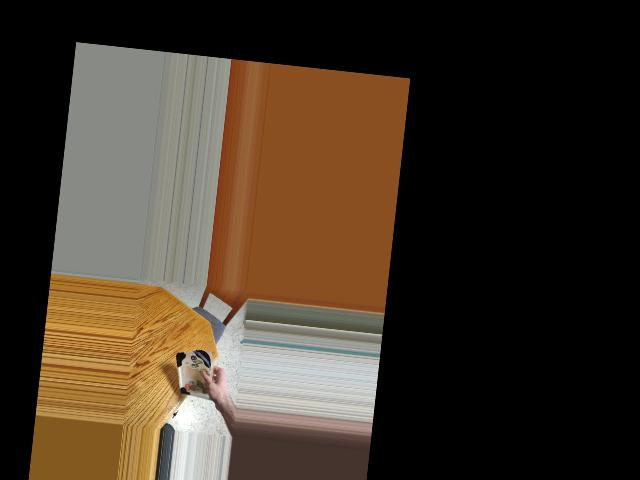cheese: (173, 345, 219, 408)
